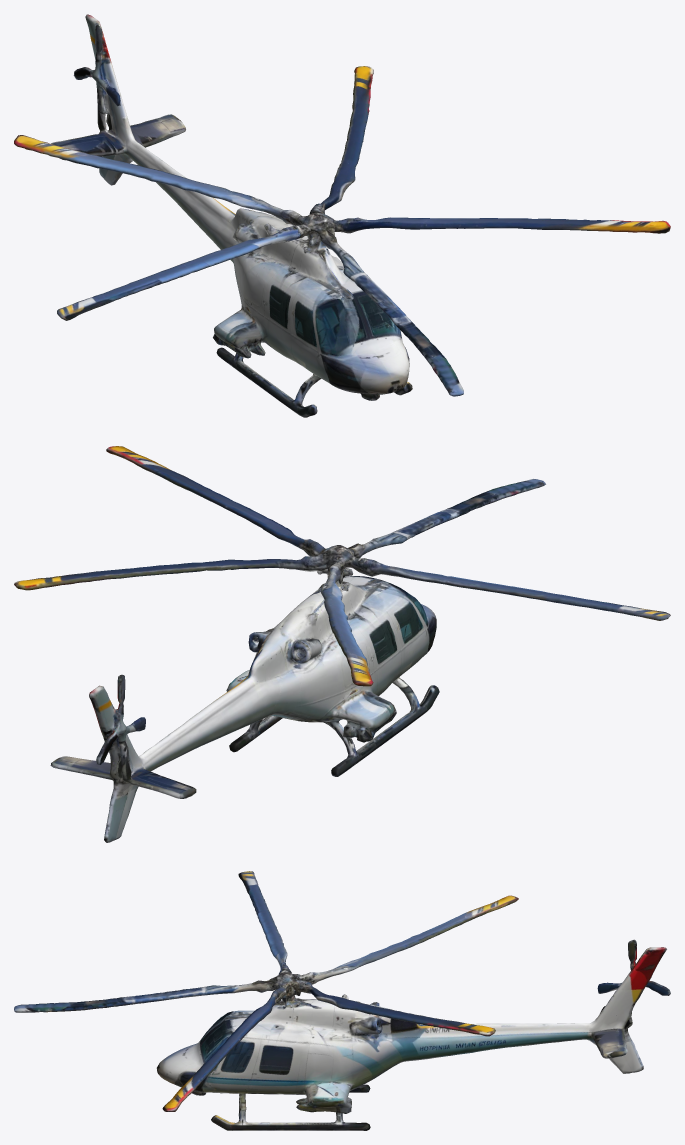
3 renders of one model, top to bottom at view 1: azimuth 30°, elevation 25°; view 2: azimuth 150°, elevation 25°; view 3: azimuth 270°, elevation 25°, orthographic. The views are drawn at different scales.
Visible parts, largest first — view 1: Mesh1.0; view 2: Mesh1.0; view 3: Mesh1.0.
Part boxes in pixels (<box>): Mesh1.0: <box>14,14,670,417</box>; Mesh1.0: <box>14,446,670,842</box>; Mesh1.0: <box>14,871,670,1130</box>.
Size of the model in its own units: 164 by 56.51 by 200.
1 material, 1 textured.
